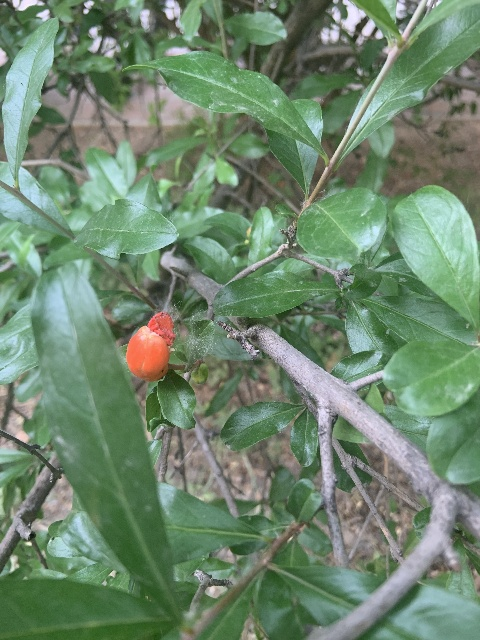flower: (126, 310, 176, 381)
